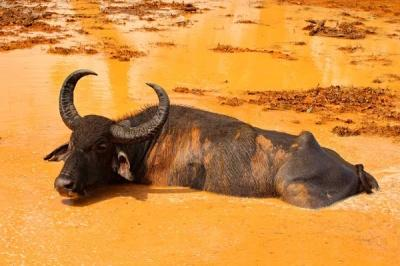buffalo: (44, 69, 378, 208)
